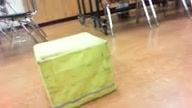cube: (33, 31, 117, 108)
